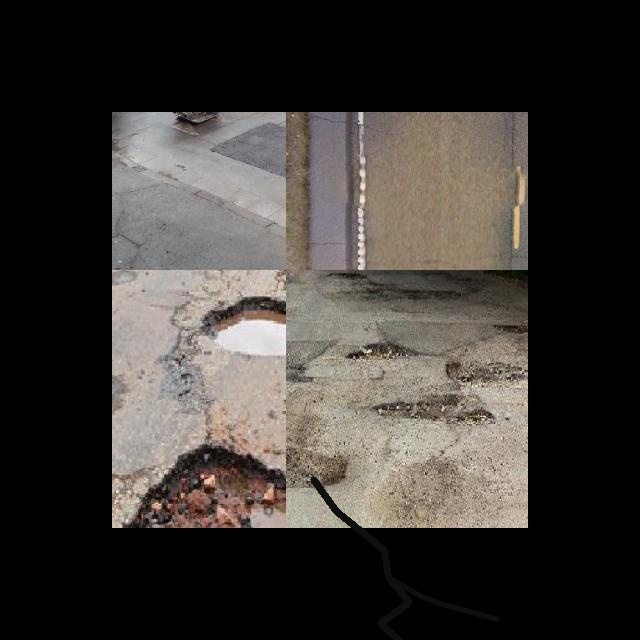road_crack: (303, 469, 419, 640)
